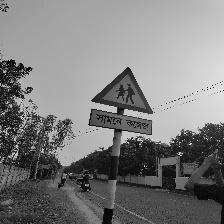College-in-front: (85, 60, 177, 148)
